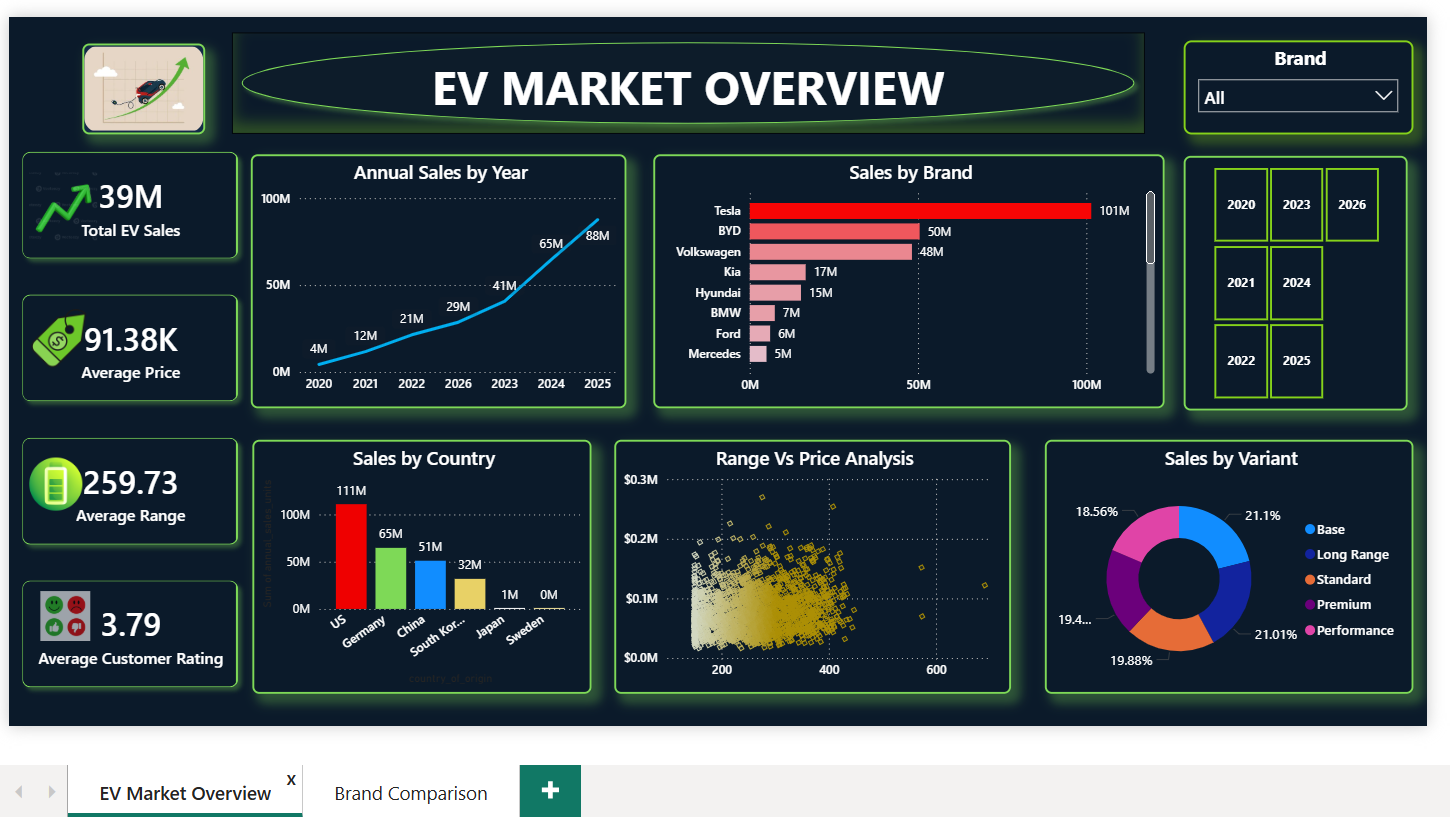

The page's visual inventory and layout, read from the dashboard file:
{"tool":"powerbi","page":{"name":"EV Market Overview","canvas":[1420,710],"ordinal":0},"visuals":[{"type":"cardVisual","fields":{"Data":["Sum(ev_market_2026.annual_sales_units)","Avg(ev_market_2026.price_usd)","Avg(ev_market_2026.range_miles)","Avg(ev_market_2026.customer_rating)"]},"box":[0,117.6,242.4,572],"z":0},{"type":"shape","box":[222.7,16,914.2,101.6],"z":1000},{"type":"lineChart","title":"Annual Sales by Year","fields":{"Category":["ev_market_2026.year"],"Y":["Sum(ev_market_2026.annual_sales_units)"]},"box":[241.5,138.2,376.5,254.5],"z":2000},{"type":"columnChart","title":"Sales by Country","fields":{"Category":["ev_market_2026.country_of_origin"],"Y":["Sum(ev_market_2026.annual_sales_units)"]},"box":[243.2,424.1,339.9,254.5],"z":3000},{"type":"barChart","title":"Sales by Brand","fields":{"Category":["ev_market_2026.brand"],"Y":["Sum(ev_market_2026.annual_sales_units)"]},"box":[645,138.2,512.5,254.5],"z":4000},{"type":"scatterChart","title":"Range Vs Price Analysis","fields":{"Category":["ev_market_2026.annual_sales_units"],"X":["Sum(ev_market_2026.range_miles)"],"Y":["Sum(ev_market_2026.price_usd)"]},"box":[606.6,424.1,397.4,254.5],"z":5000},{"type":"donutChart","title":"Sales by Variant","fields":{"Category":["ev_market_2026.variant"],"Y":["Sum(ev_market_2026.annual_sales_units)"]},"box":[1037.1,424.1,369.5,254.5],"z":6000},{"type":"slicer","fields":{"Values":["ev_market_2026.year"]},"box":[1176.1,139,224.5,254.8],"z":7000},{"type":"image","box":[24.9,575.6,62.4,49.9],"z":8000},{"type":"image","box":[19.6,404.5,53.5,126.5],"z":9000},{"type":"image","box":[19.6,139,67.7,101.6],"z":10000},{"type":"image","box":[19.6,265.5,58.8,112.3],"z":11000},{"type":"image","box":[73.1,26.7,123,90.9],"z":12000},{"type":"slicer","title":"Brand","fields":{"Values":["ev_market_2026.brand"]},"box":[1176.1,23.2,229.9,94.4],"z":13000}]}

Visuals, with their boxes on the page's 1420x710 design canvas (x1, y1, x2, y2). These are canvas units, not pixel positions in the 1450x817 screenshot, which may show the page scaled, cropped or inside an application window:
cardVisual - Sum(ev_market_2026.annual_sales_units) x Avg(ev_market_2026.price_usd): x1=0, y1=118, x2=242, y2=690
shape: x1=223, y1=16, x2=1137, y2=118
"Annual Sales by Year" lineChart: x1=242, y1=138, x2=618, y2=393
"Sales by Country" columnChart: x1=243, y1=424, x2=583, y2=679
"Sales by Brand" barChart: x1=645, y1=138, x2=1158, y2=393
"Range Vs Price Analysis" scatterChart: x1=607, y1=424, x2=1004, y2=679
"Sales by Variant" donutChart: x1=1037, y1=424, x2=1407, y2=679
slicer - ev_market_2026.year: x1=1176, y1=139, x2=1401, y2=394
image: x1=25, y1=576, x2=87, y2=626
image: x1=20, y1=404, x2=73, y2=531
image: x1=20, y1=139, x2=87, y2=241
image: x1=20, y1=266, x2=78, y2=378
image: x1=73, y1=27, x2=196, y2=118
"Brand" slicer: x1=1176, y1=23, x2=1406, y2=118
